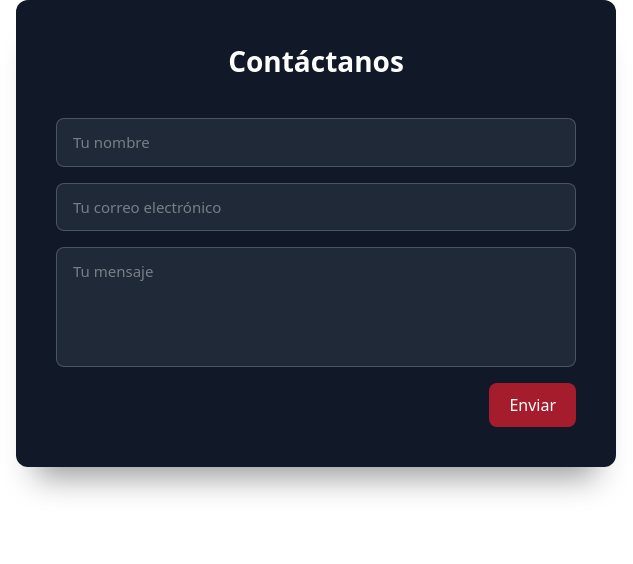
it: ContactForm › muestra mensaje de éxito tras envío exitoso
In the field with placeholder "Tu nombre": [316, 142] box [56,118,576,166], type "Juan"
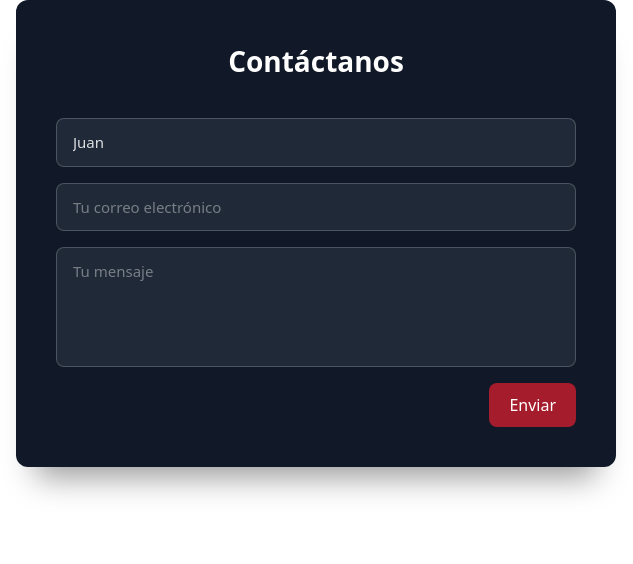
In the field with placeholder "Tu correo electrónico": [316, 207] box [56,182,576,231], type "juan@mail.com"
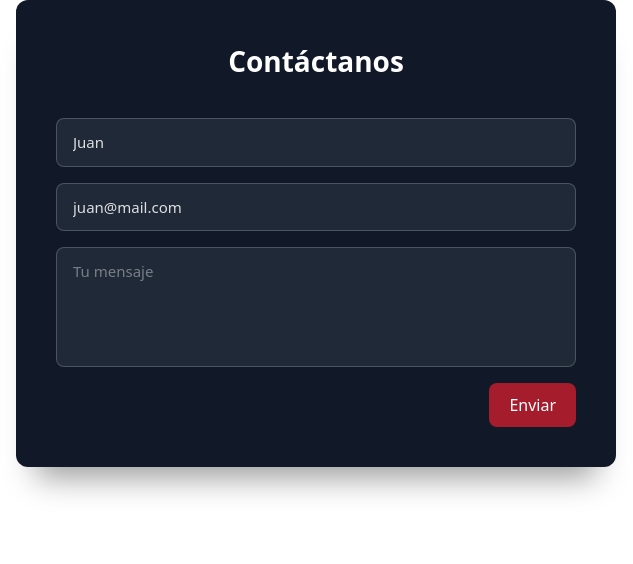
In the text box with placeholder "Tu mensaje": [316, 307] box [56,247,576,367], type "Hola!"
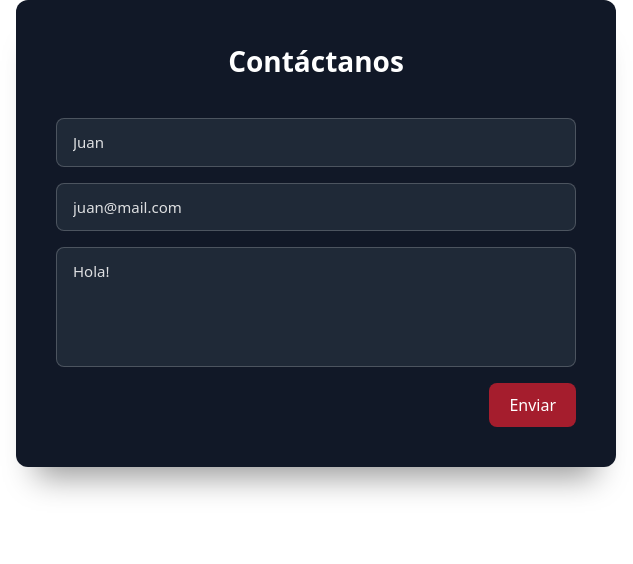
Click the button "Enviar": [533, 405] box [489,383,576,427]
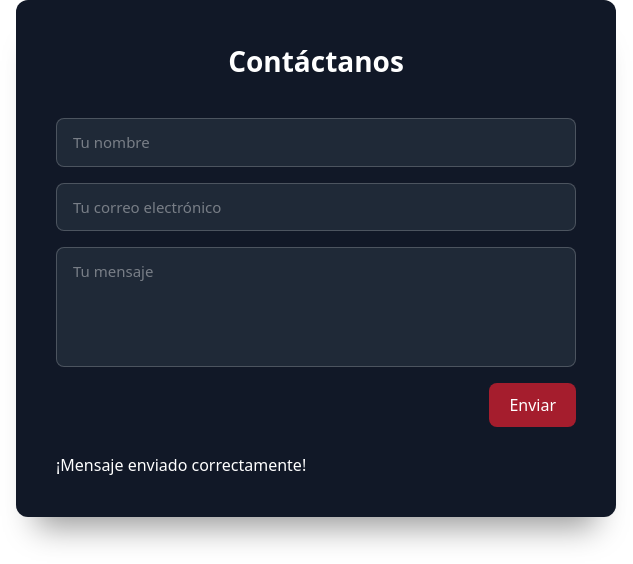
Expected: the text "¡Mensaje enviado correctamente!" is shown, [56,454,306,476]
